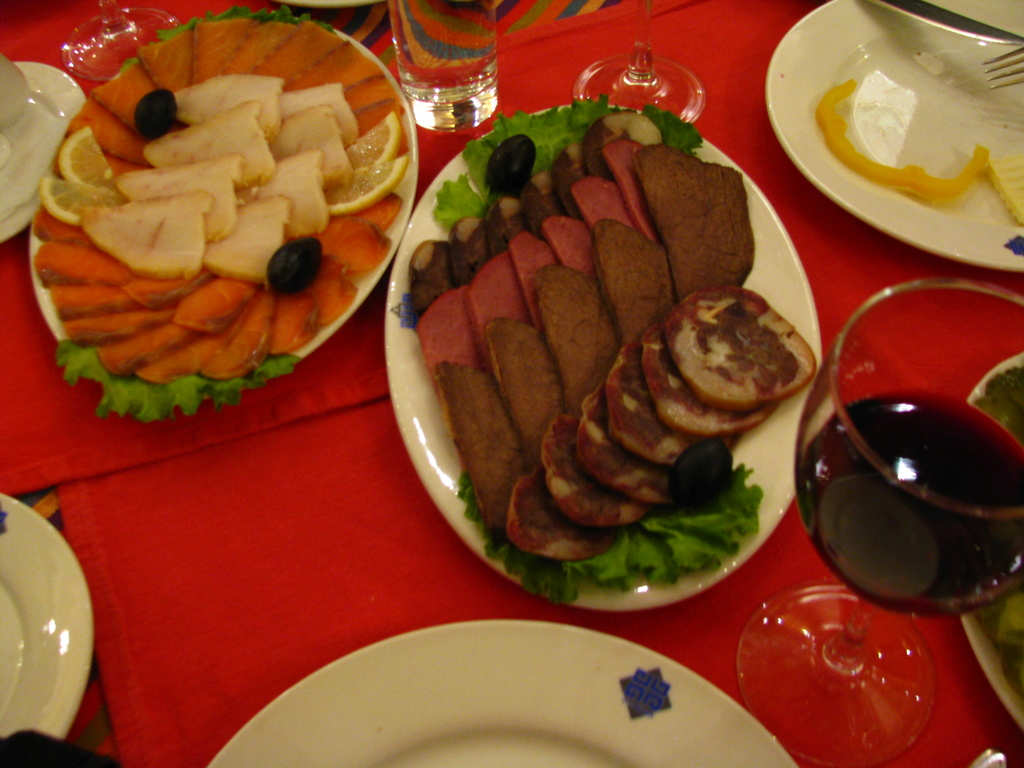plate: (759, 22, 1018, 260)
